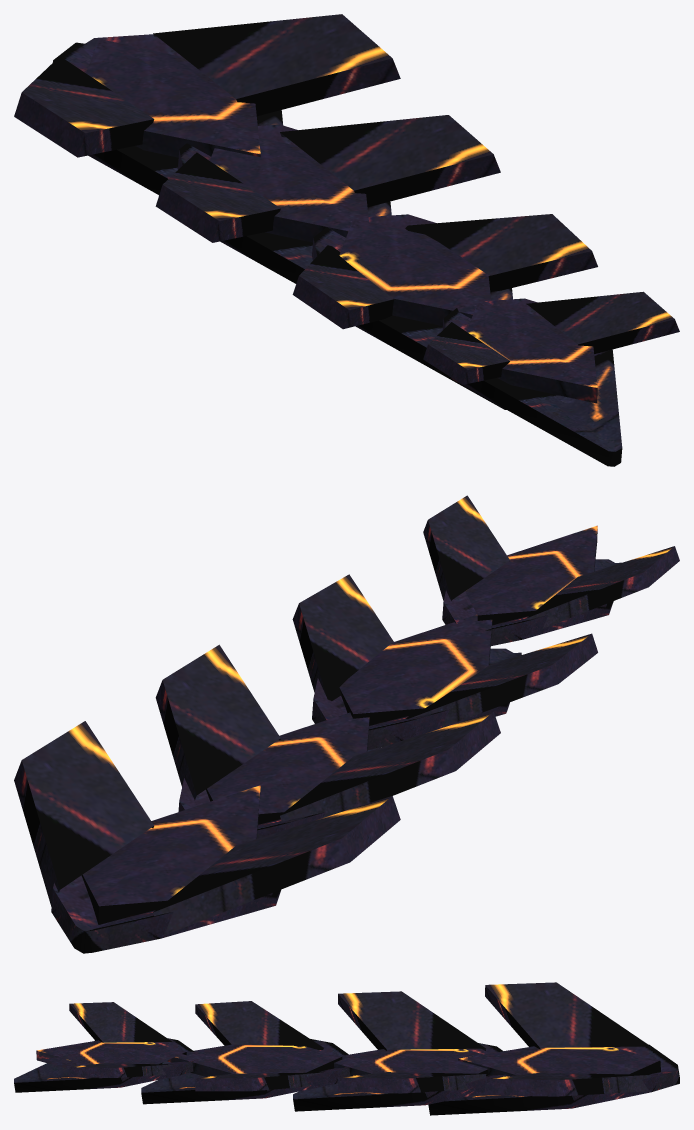
The model's file is ship16i.fbx.
3 views of the same model, one above another, from view 1: azimuth 30°, elevation 25°; view 2: azimuth 150°, elevation 25°; view 3: azimuth 270°, elevation 25° (orthographic). The views are drawn at different scales.
Parts seen in each view (by area): view 1: PipelineFBX; view 2: PipelineFBX; view 3: PipelineFBX.
Part boxes in pixels (x1,y1,x2,y2): PipelineFBX: (14, 14, 679, 466); PipelineFBX: (14, 495, 679, 953); PipelineFBX: (14, 982, 679, 1115).
Bounding box in the file's own units: 156 × 59.07 × 428.
1 material, 1 textured.
